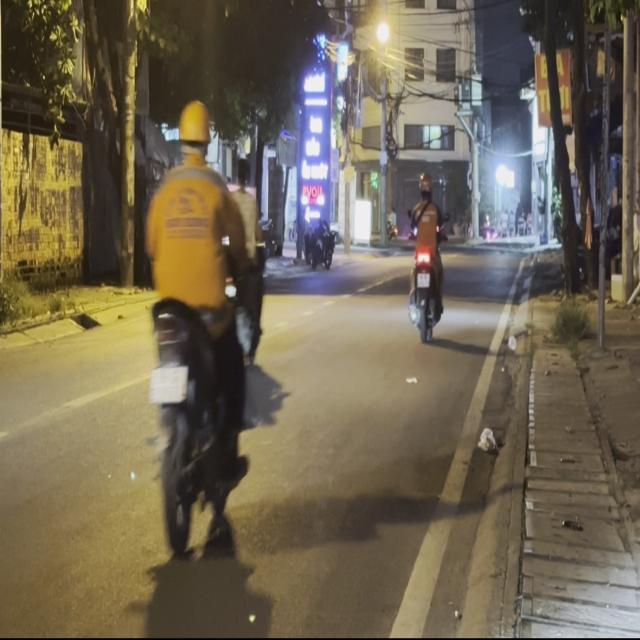helmet: (176, 98, 212, 159)
licenseplate: (140, 96, 263, 562)
nohelmet: (148, 364, 187, 400)
